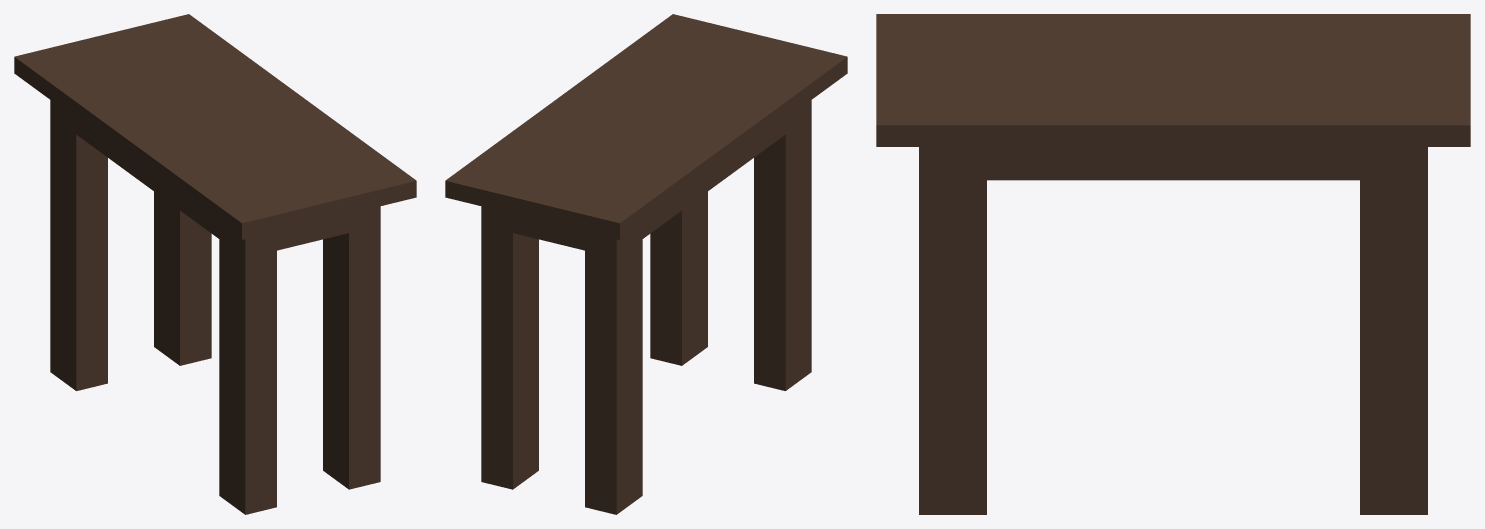
File: S_SquareTable.001.fbx
The picture shows the model from 3 angles, left to right: view 1: azimuth 30°, elevation 25°; view 2: azimuth 150°, elevation 25°; view 3: azimuth 270°, elevation 25°; orthographic projection. The views are drawn at different scales.
Parts seen in each view (by area): view 1: S_SquareTable.001; view 2: S_SquareTable.001; view 3: S_SquareTable.001.
Boxes of the visible parts, x1,y1,x2,y2 form: S_SquareTable.001: (14,14,416,514); S_SquareTable.001: (445,14,847,514); S_SquareTable.001: (876,14,1470,514).
Size of the model in its own units: 51.74 by 87.24 by 117.
